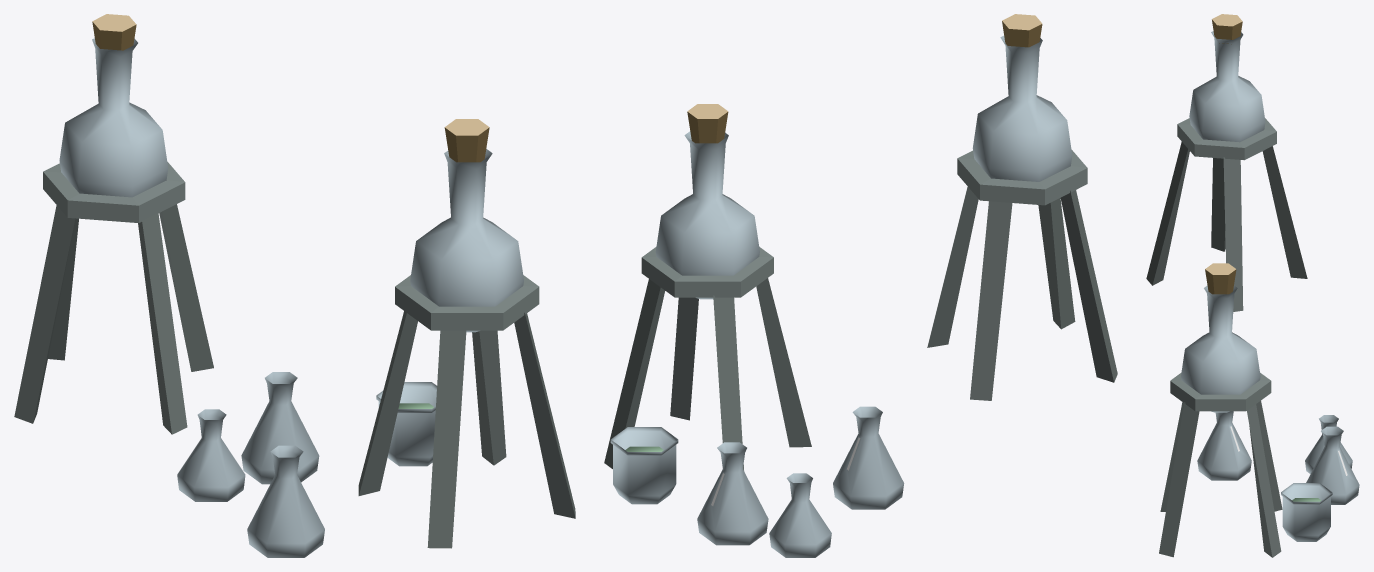
Rendered from testtube.obj.
3 views of the same model, side by side, from view 1: azimuth 30°, elevation 25°; view 2: azimuth 150°, elevation 25°; view 3: azimuth 270°, elevation 25° (orthographic). The views are drawn at different scales.
Parts seen in each view (by area): view 1: Test_Tube_Interior.009; view 2: Test_Tube_Interior.009; view 3: Test_Tube_Interior.009.
Part boxes in pixels (bbox=[...]): Test_Tube_Interior.009: bbox=[14, 14, 575, 557]; Test_Tube_Interior.009: bbox=[604, 14, 1117, 557]; Test_Tube_Interior.009: bbox=[1146, 14, 1359, 557].
Size of the model in its own units: 1.64 by 1.67 by 0.8226.
1 material, 1 textured.
